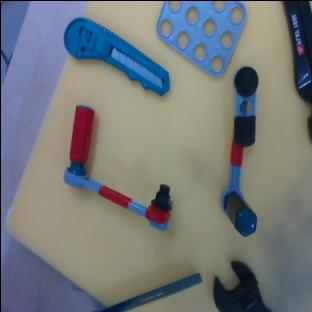non_pass: (221, 66, 258, 235)
pass: (40, 102, 198, 236)
